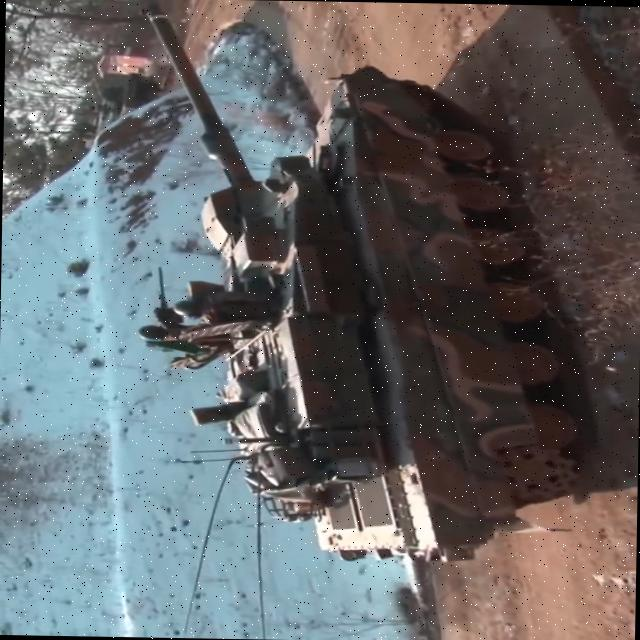korea tank: (121, 0, 601, 566)
